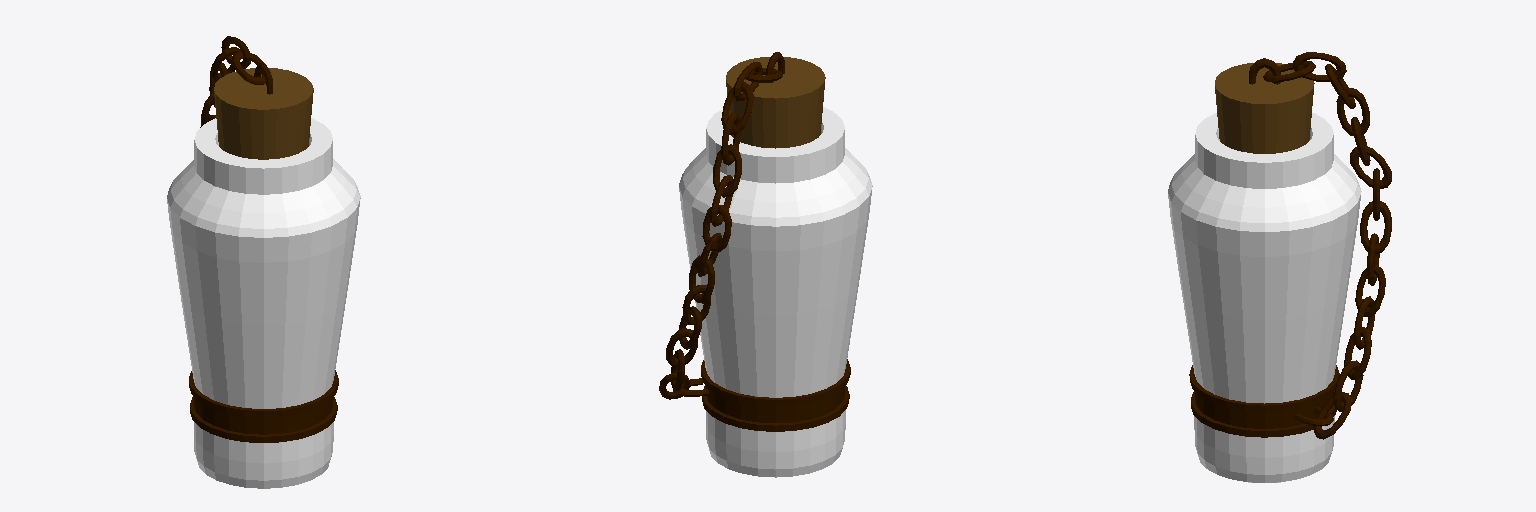
File: health_potion.obj
The picture shows the model from 3 angles: view 1: azimuth 30°, elevation 25°; view 2: azimuth 150°, elevation 25°; view 3: azimuth 270°, elevation 25°; orthographic projection.
Parts seen in each view (by area): view 1: HealthPotion_Cylinder.004; view 2: HealthPotion_Cylinder.004; view 3: HealthPotion_Cylinder.004.
Boxes of the visible parts, x1,y1,x2,y2 form: HealthPotion_Cylinder.004: [167, 36, 360, 488]; HealthPotion_Cylinder.004: [659, 52, 872, 477]; HealthPotion_Cylinder.004: [1168, 52, 1391, 482].
Bounding box in the file's own units: 0.2917 × 0.677 × 0.3381.